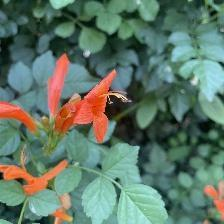honeysuckle: (73, 75, 133, 143)
